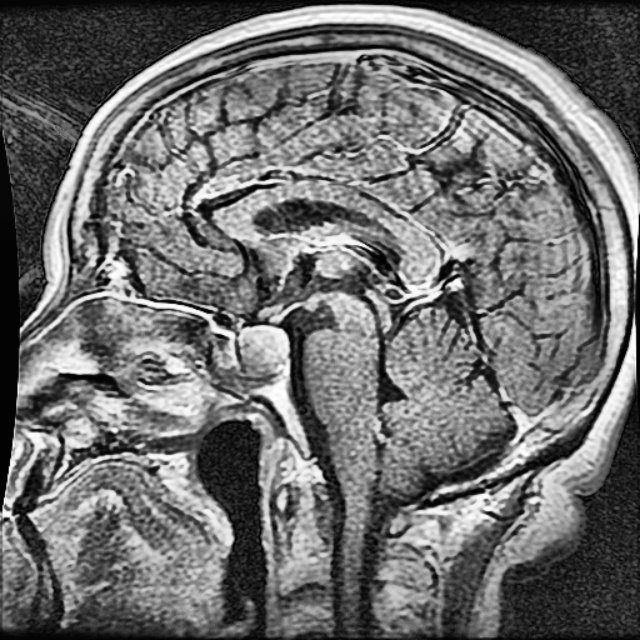Pituitary: (239, 325, 292, 378)
